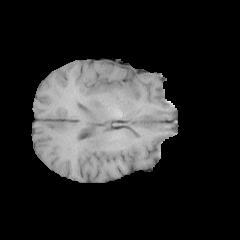glioma: (86, 68, 148, 121)
